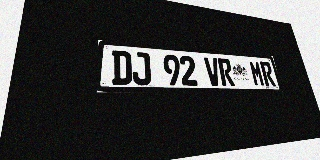2: (179, 55, 198, 85)
9: (163, 54, 182, 85)
D: (112, 50, 132, 85)
J: (132, 52, 151, 85)
M: (249, 60, 266, 86)
R: (217, 58, 235, 86), (260, 61, 276, 86)
V: (204, 57, 222, 86)
